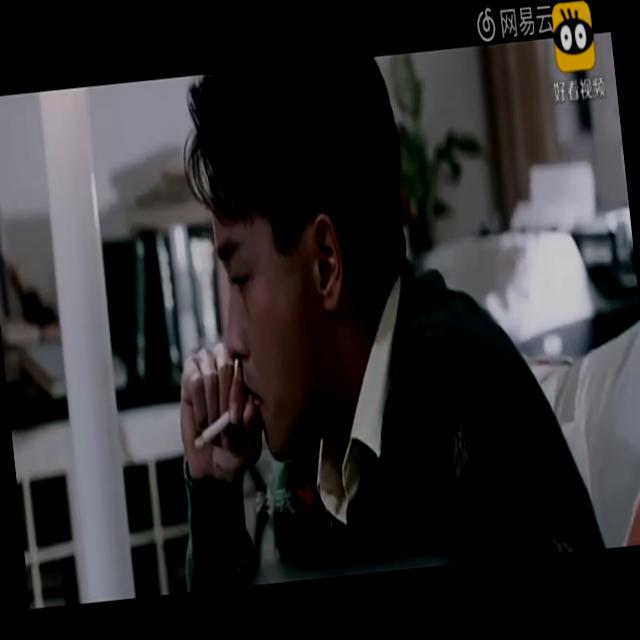cigarette: (178, 395, 236, 456)
